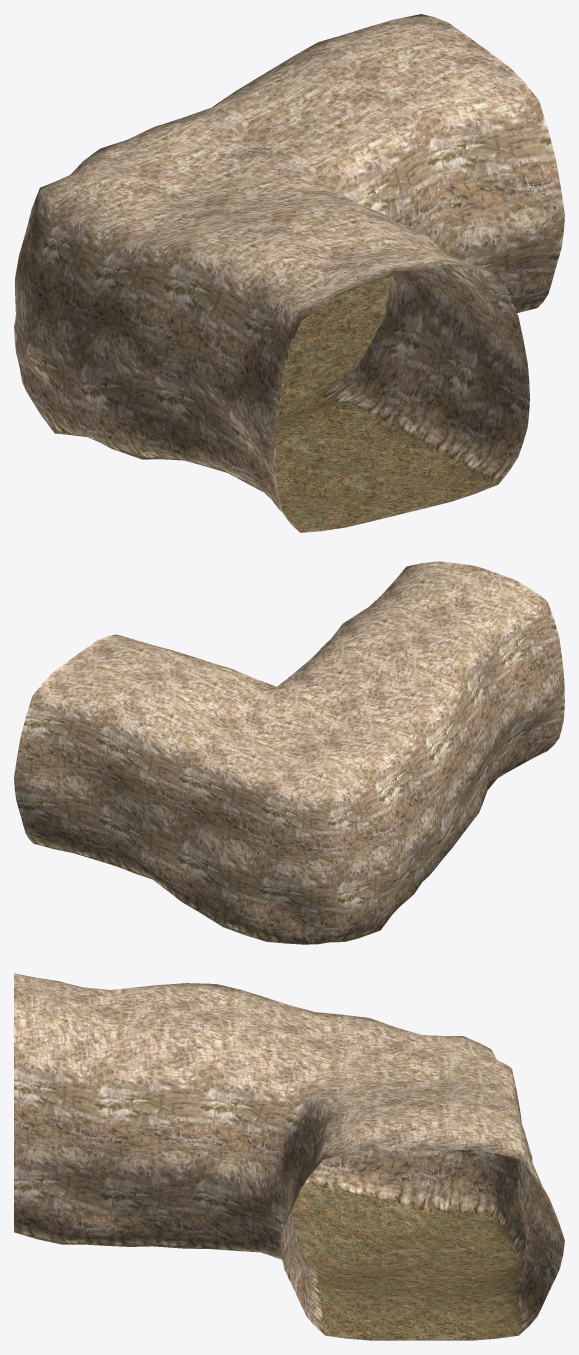
The model's file is thm_all_cave_s03_mirror_r26_mesh_r26.fbx.
3 renders of one model, top to bottom at view 1: azimuth 30°, elevation 25°; view 2: azimuth 150°, elevation 25°; view 3: azimuth 270°, elevation 25°, orthographic. The views are drawn at different scales.
Parts seen in each view (by area): view 1: mesh_node; view 2: mesh_node; view 3: mesh_node.
Boxes of the visible parts, <box> form: mesh_node: <box>14,14,564,532</box>; mesh_node: <box>14,561,564,944</box>; mesh_node: <box>14,973,564,1340</box>.
Size of the model in its own units: 33.83 by 22.2 by 41.86.
